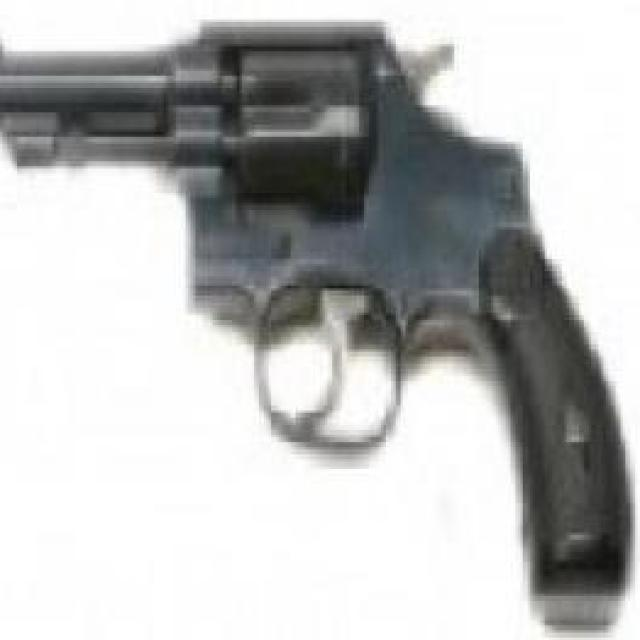pistol: (0, 3, 628, 613)
